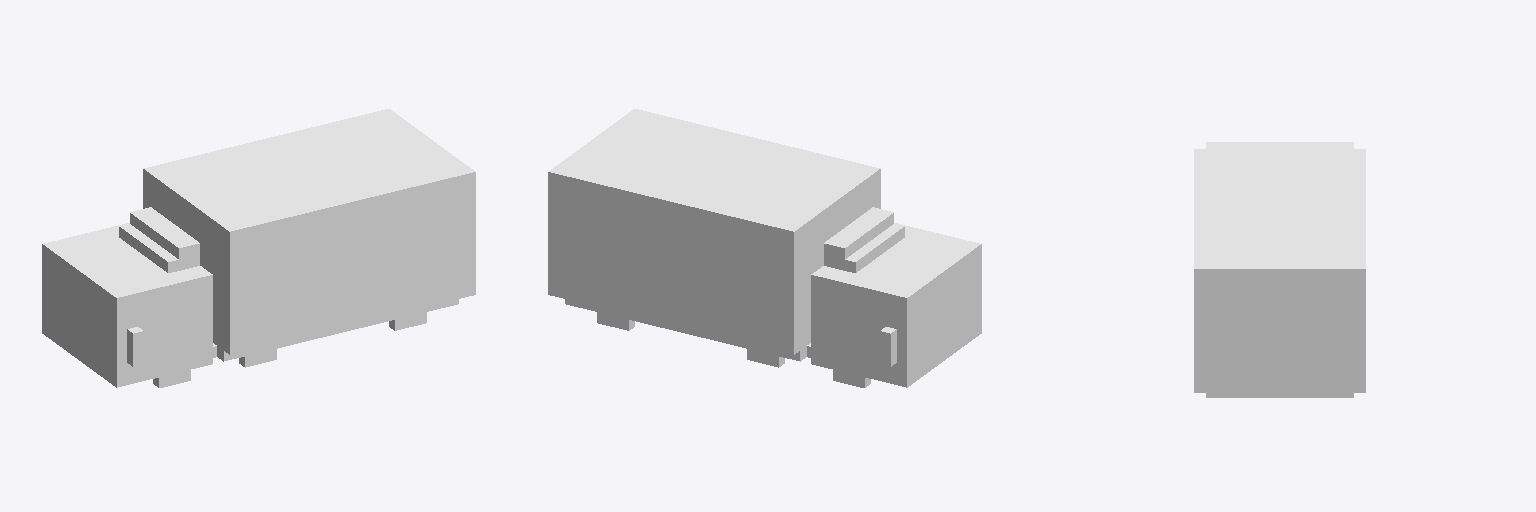
Rendered from xâtido.obj.
3 renders of one model, left to right at view 1: azimuth 30°, elevation 25°; view 2: azimuth 150°, elevation 25°; view 3: azimuth 270°, elevation 25°, orthographic.
Parts seen in each view (by area): view 1: object 1; view 2: object 1; view 3: object 1.
Part boxes in pixels (x1,y1,x2,y2): object 1: (42,109,475,387); object 1: (548,109,981,387); object 1: (1194,142,1365,397).
Size of the model in its own units: 3.3 by 1.3 by 1.4.